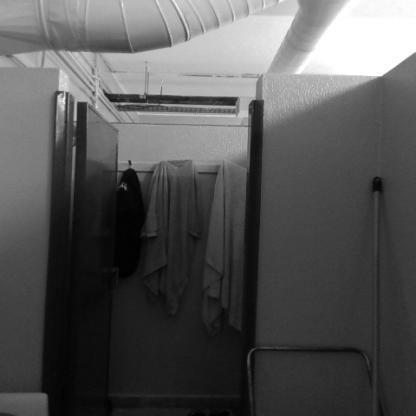open: (51, 74, 269, 414)
